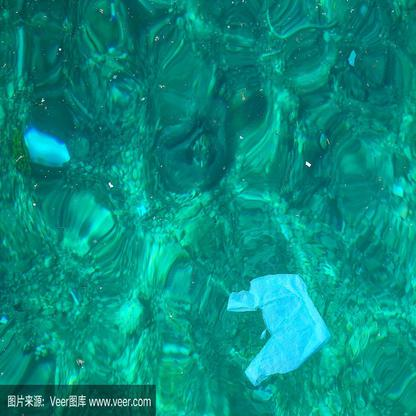plastic bag: (227, 273, 332, 387)
